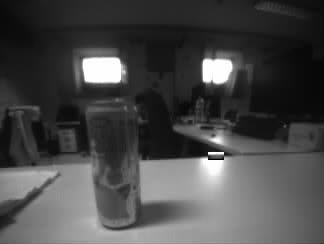Tin can: (84, 98, 147, 231)
